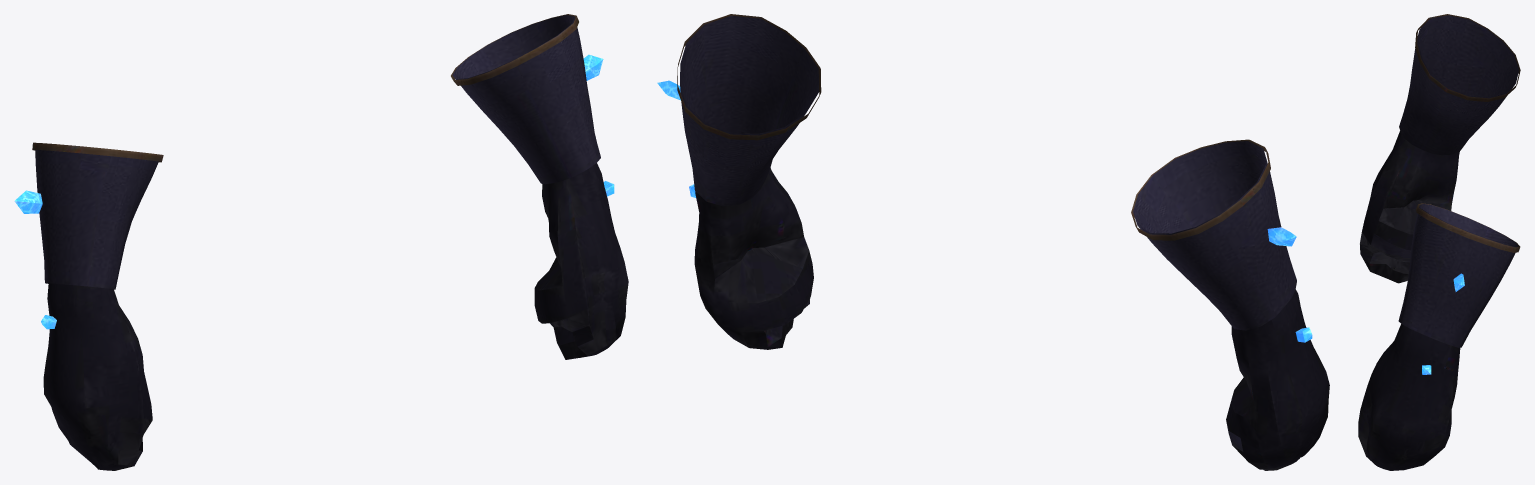
The model's file is Luvas_de_Tecido_nivel50.glb.
The picture shows the model from 3 angles, left to right: view 1: azimuth 30°, elevation 25°; view 2: azimuth 150°, elevation 25°; view 3: azimuth 270°, elevation 25°; orthographic projection. The views are drawn at different scales.
Parts seen in each view (by area): view 1: luvas_de_tecido_nivel50; view 2: luvas_de_tecido_nivel50; view 3: luvas_de_tecido_nivel50.
Part boxes in pixels (x1,y1,x2,y2): luvas_de_tecido_nivel50: (14,14,628,470); luvas_de_tecido_nivel50: (657,14,1329,470); luvas_de_tecido_nivel50: (1358,14,1520,470).
Size of the model in its own units: 0.6936 by 0.3555 by 0.1997.
Materials: 1 (1 with a texture image).
